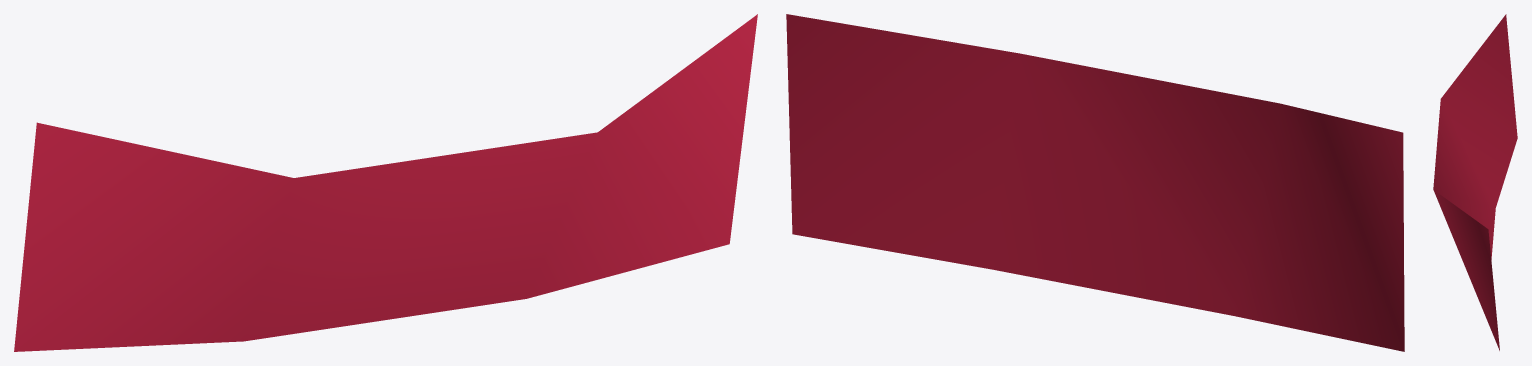
3 views of the same model, side by side, from view 1: azimuth 30°, elevation 25°; view 2: azimuth 150°, elevation 25°; view 3: azimuth 270°, elevation 25° (orthographic). The views are drawn at different scales.
Visible parts, largest first — view 1: ef_524; view 2: ef_524; view 3: ef_524.
Part boxes in pixels (box(x1,y1,x2,y2)): ef_524: box(14, 14, 757, 351); ef_524: box(786, 14, 1404, 351); ef_524: box(1433, 14, 1517, 350).
Size of the model in its own units: 0.7184 by 0.2731 by 0.1345.
1 material, 1 textured.
